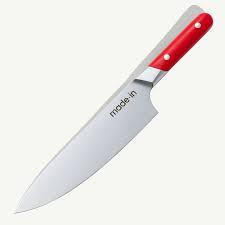Knife: (13, 4, 213, 213)
